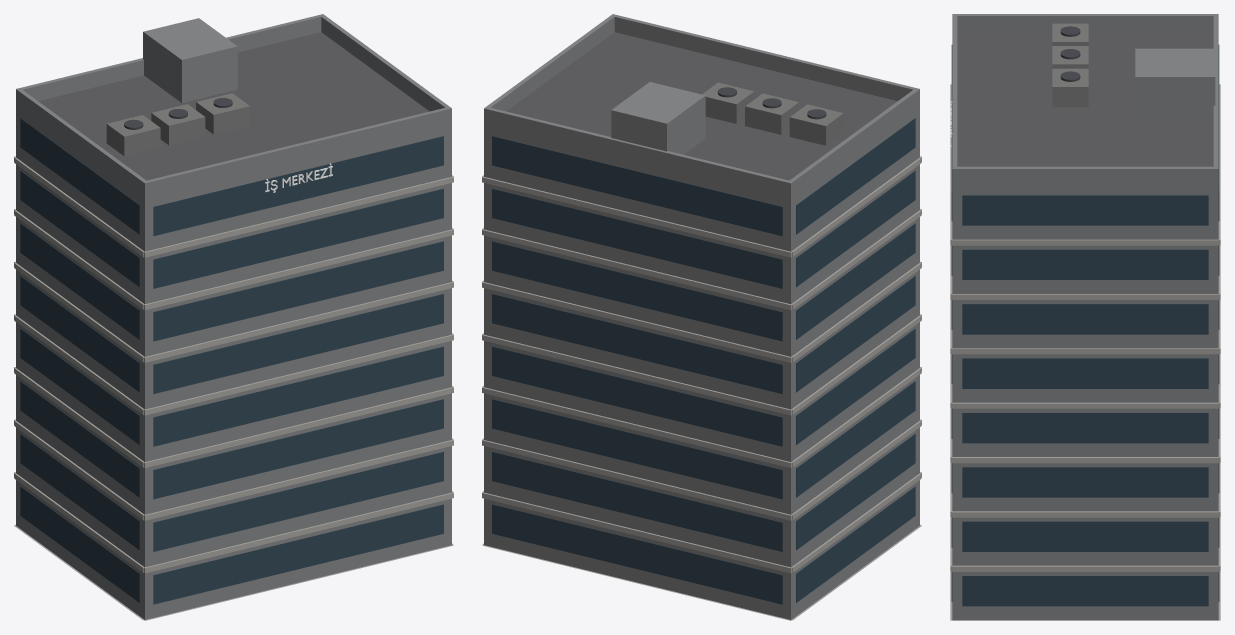
Rendered from bina_13_ust.glb.
3 views of the same model, side by side, from view 1: azimuth 30°, elevation 25°; view 2: azimuth 150°, elevation 25°; view 3: azimuth 270°, elevation 25° (orthographic). The views are drawn at different scales.
Parts seen in each view (by area): view 1: P13_ust; view 2: P13_ust; view 3: P13_ust.
Part boxes in pixels (left/top/right/bottom): P13_ust: left=14, top=14, right=453, bottom=620; P13_ust: left=482, top=14, right=921, bottom=620; P13_ust: left=950, top=14, right=1220, bottom=620.
Bounding box in the file's own units: 22.24 × 31.8 × 16.24.
